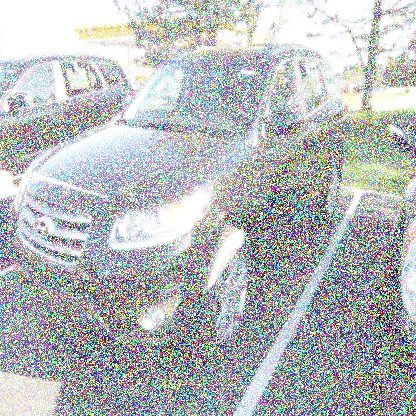Vehicle: (9, 42, 347, 356)
